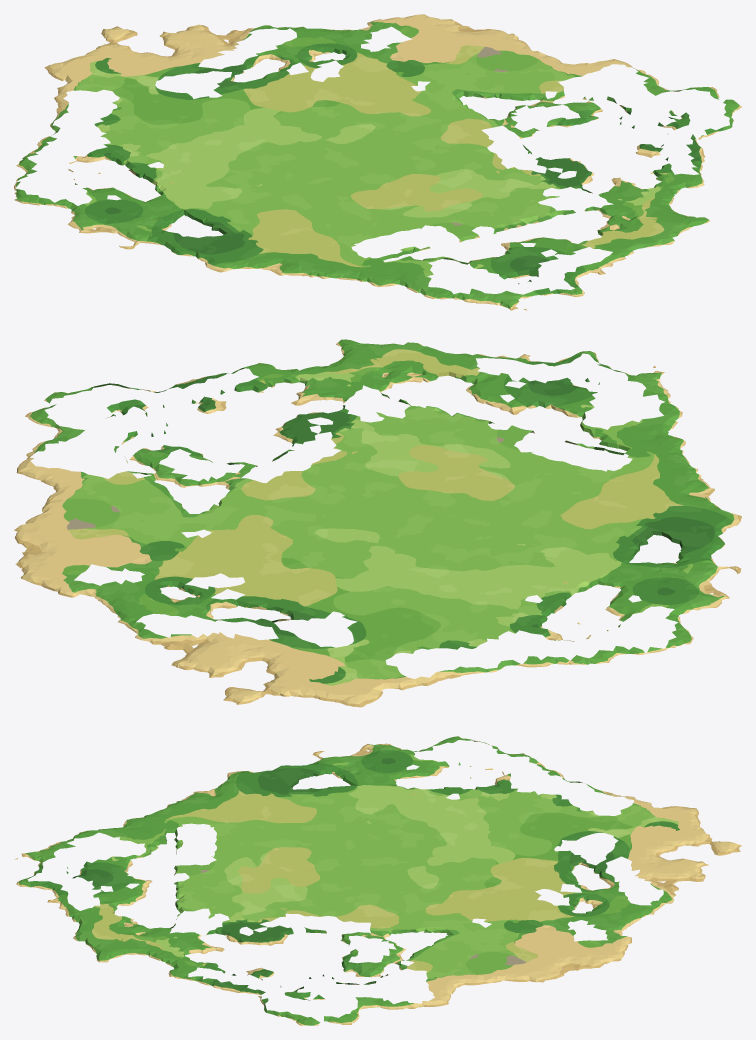
Rendered from Isl-orc5-Ground.fbx.
3 views of the same model, one above another, from view 1: azimuth 30°, elevation 25°; view 2: azimuth 150°, elevation 25°; view 3: azimuth 270°, elevation 25° (orthographic). The views are drawn at different scales.
Parts seen in each view (by area): view 1: Isl-orc5-Ground-c22, Isl-orc5-Ground-c12, Isl-orc5-Ground-c11, Isl-orc5-Ground-c21, Isl-orc5-Ground-c13, Isl-orc5-Ground-c20, Isl-orc5-Ground-c10, Isl-orc5-Ground-c02, Isl-orc5-Ground-c31, Isl-orc5-Ground-c23; view 2: Isl-orc5-Ground-c22, Isl-orc5-Ground-c12, Isl-orc5-Ground-c11, Isl-orc5-Ground-c21, Isl-orc5-Ground-c13, Isl-orc5-Ground-c23, Isl-orc5-Ground-c02, Isl-orc5-Ground-c31, Isl-orc5-Ground-c20, Isl-orc5-Ground-c10, Isl-orc5-Ground-c32; view 3: Isl-orc5-Ground-c22, Isl-orc5-Ground-c12, Isl-orc5-Ground-c11, Isl-orc5-Ground-c21, Isl-orc5-Ground-c13, Isl-orc5-Ground-c31, Isl-orc5-Ground-c20, Isl-orc5-Ground-c23, Isl-orc5-Ground-c32, Isl-orc5-Ground-c10, Isl-orc5-Ground-c02.
Boxes of the visible parts, box(x1,y1,x2,y2) form: Isl-orc5-Ground-c22: box(212, 14, 613, 158); Isl-orc5-Ground-c12: box(17, 47, 363, 225); Isl-orc5-Ground-c11: box(100, 159, 517, 296); Isl-orc5-Ground-c21: box(365, 99, 709, 271); Isl-orc5-Ground-c13: box(44, 26, 211, 84); Isl-orc5-Ground-c20: box(518, 233, 677, 296); Isl-orc5-Ground-c10: box(426, 271, 547, 310); Isl-orc5-Ground-c02: box(14, 165, 100, 232); Isl-orc5-Ground-c31: box(648, 87, 741, 148); Isl-orc5-Ground-c23: box(186, 24, 303, 46); Isl-orc5-Ground-c22: box(14, 446, 399, 643); Isl-orc5-Ground-c12: box(224, 516, 702, 690); Isl-orc5-Ground-c11: box(400, 387, 741, 591); Isl-orc5-Ground-c21: box(115, 339, 574, 515); Isl-orc5-Ground-c13: box(193, 644, 395, 707); Isl-orc5-Ground-c23: box(118, 620, 223, 670); Isl-orc5-Ground-c02: box(608, 591, 729, 662); Isl-orc5-Ground-c31: box(25, 383, 175, 436); Isl-orc5-Ground-c20: box(404, 342, 607, 387); Isl-orc5-Ground-c10: box(576, 366, 682, 415); Isl-orc5-Ground-c32: box(16, 434, 76, 482); Isl-orc5-Ground-c22: box(368, 869, 653, 992); Isl-orc5-Ground-c12: box(367, 750, 653, 872); Isl-orc5-Ground-c11: box(87, 752, 371, 872); Isl-orc5-Ground-c21: box(85, 869, 371, 992); Isl-orc5-Ground-c13: box(650, 806, 741, 872); Isl-orc5-Ground-c31: box(236, 989, 370, 1025); Isl-orc5-Ground-c20: box(16, 870, 88, 944); Isl-orc5-Ground-c23: box(650, 870, 705, 914); Isl-orc5-Ground-c32: box(368, 989, 452, 1009); Isl-orc5-Ground-c10: box(14, 831, 88, 872); Isl-orc5-Ground-c02: box(368, 736, 523, 753).
Bounding box in the file's own units: 106 × 0.4899 × 113.
